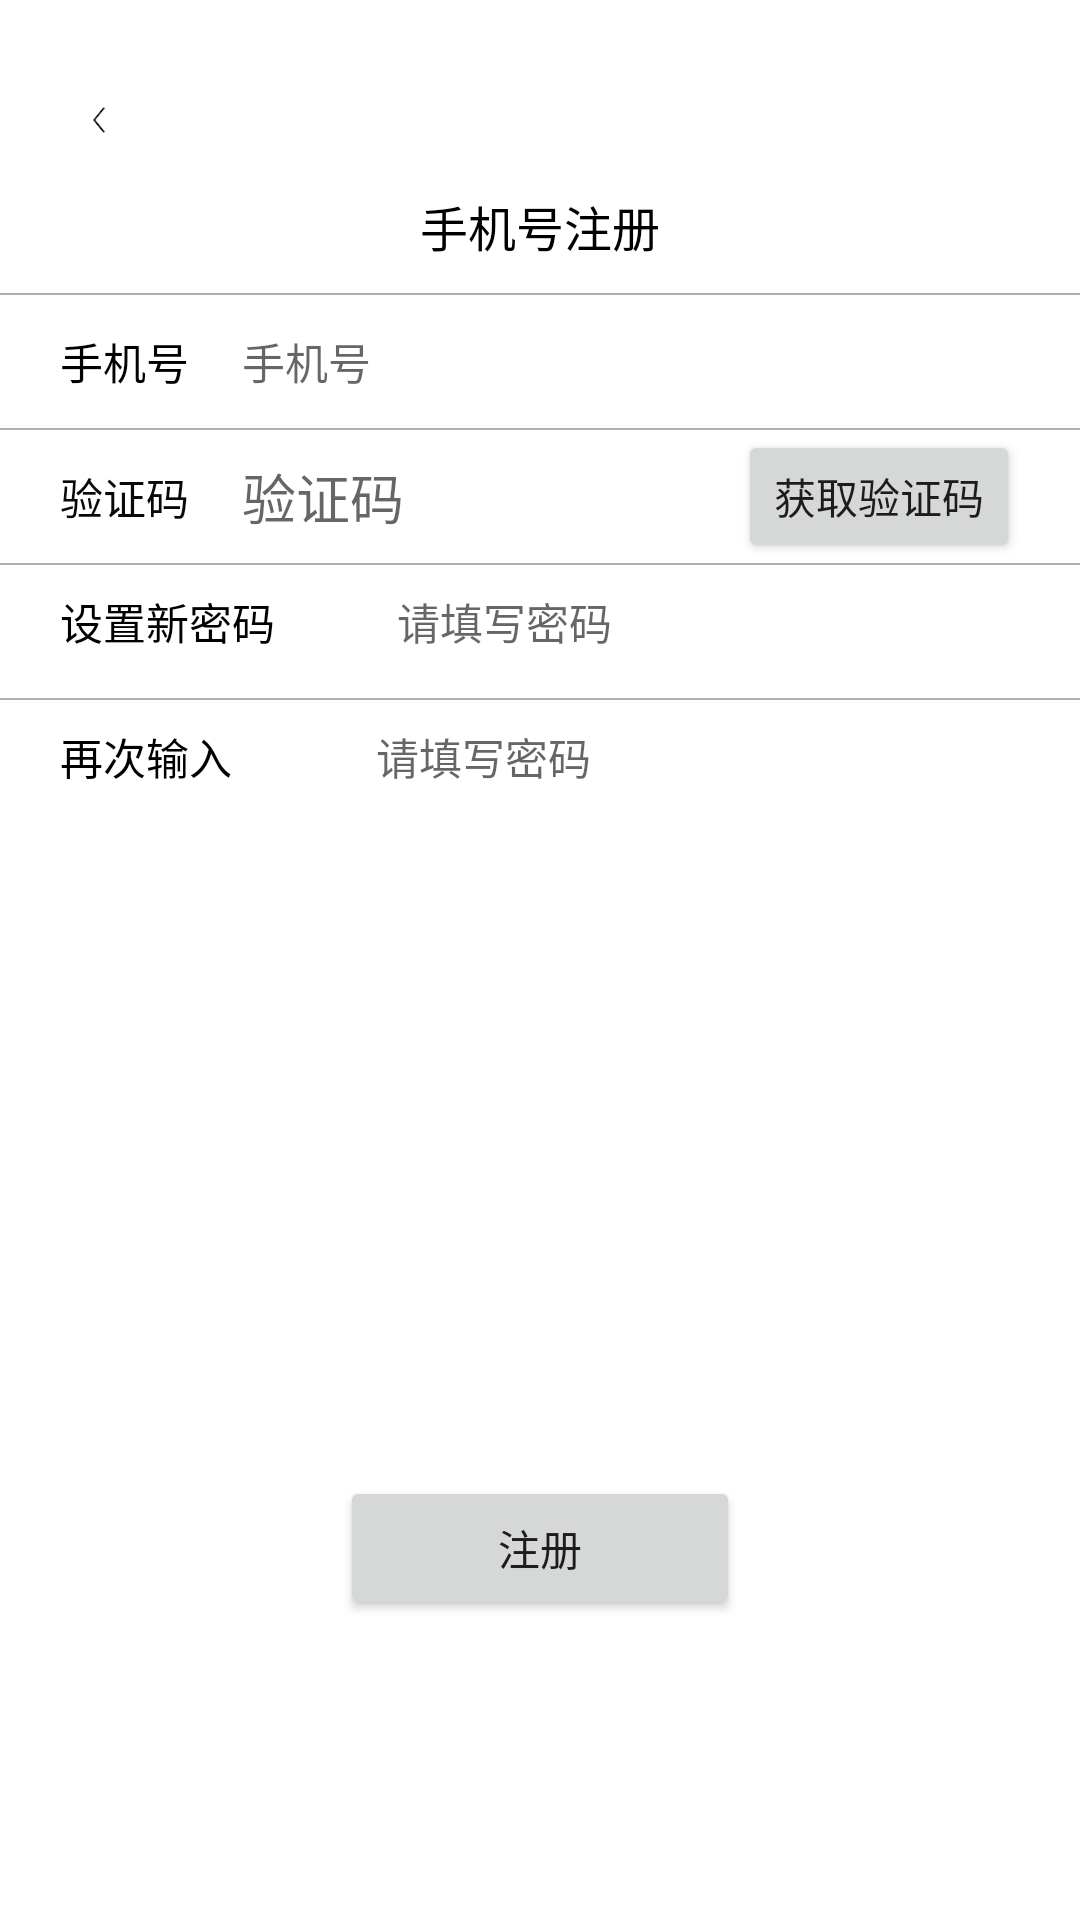

Icons on this 1080 x 1920 Android screen, each with the point to tap as (x,y):
back: (99,120)
